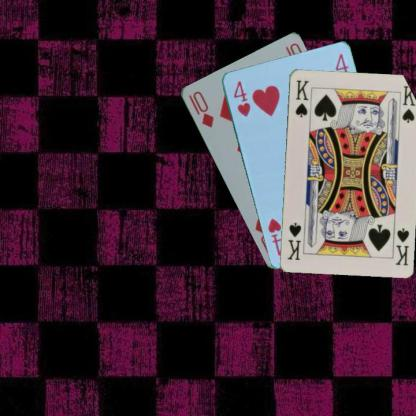10d: (185, 88, 215, 129)
4h: (231, 78, 252, 118)
Ks: (392, 225, 410, 266), (292, 78, 310, 118)
